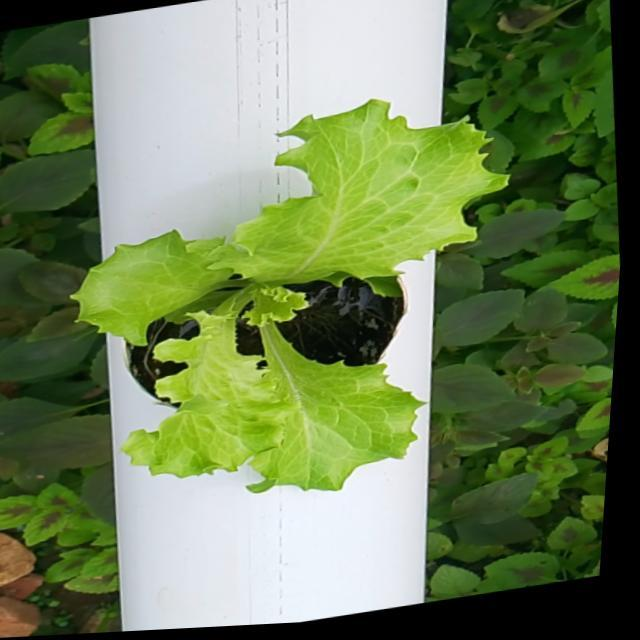Baby: (51, 106, 484, 495)
